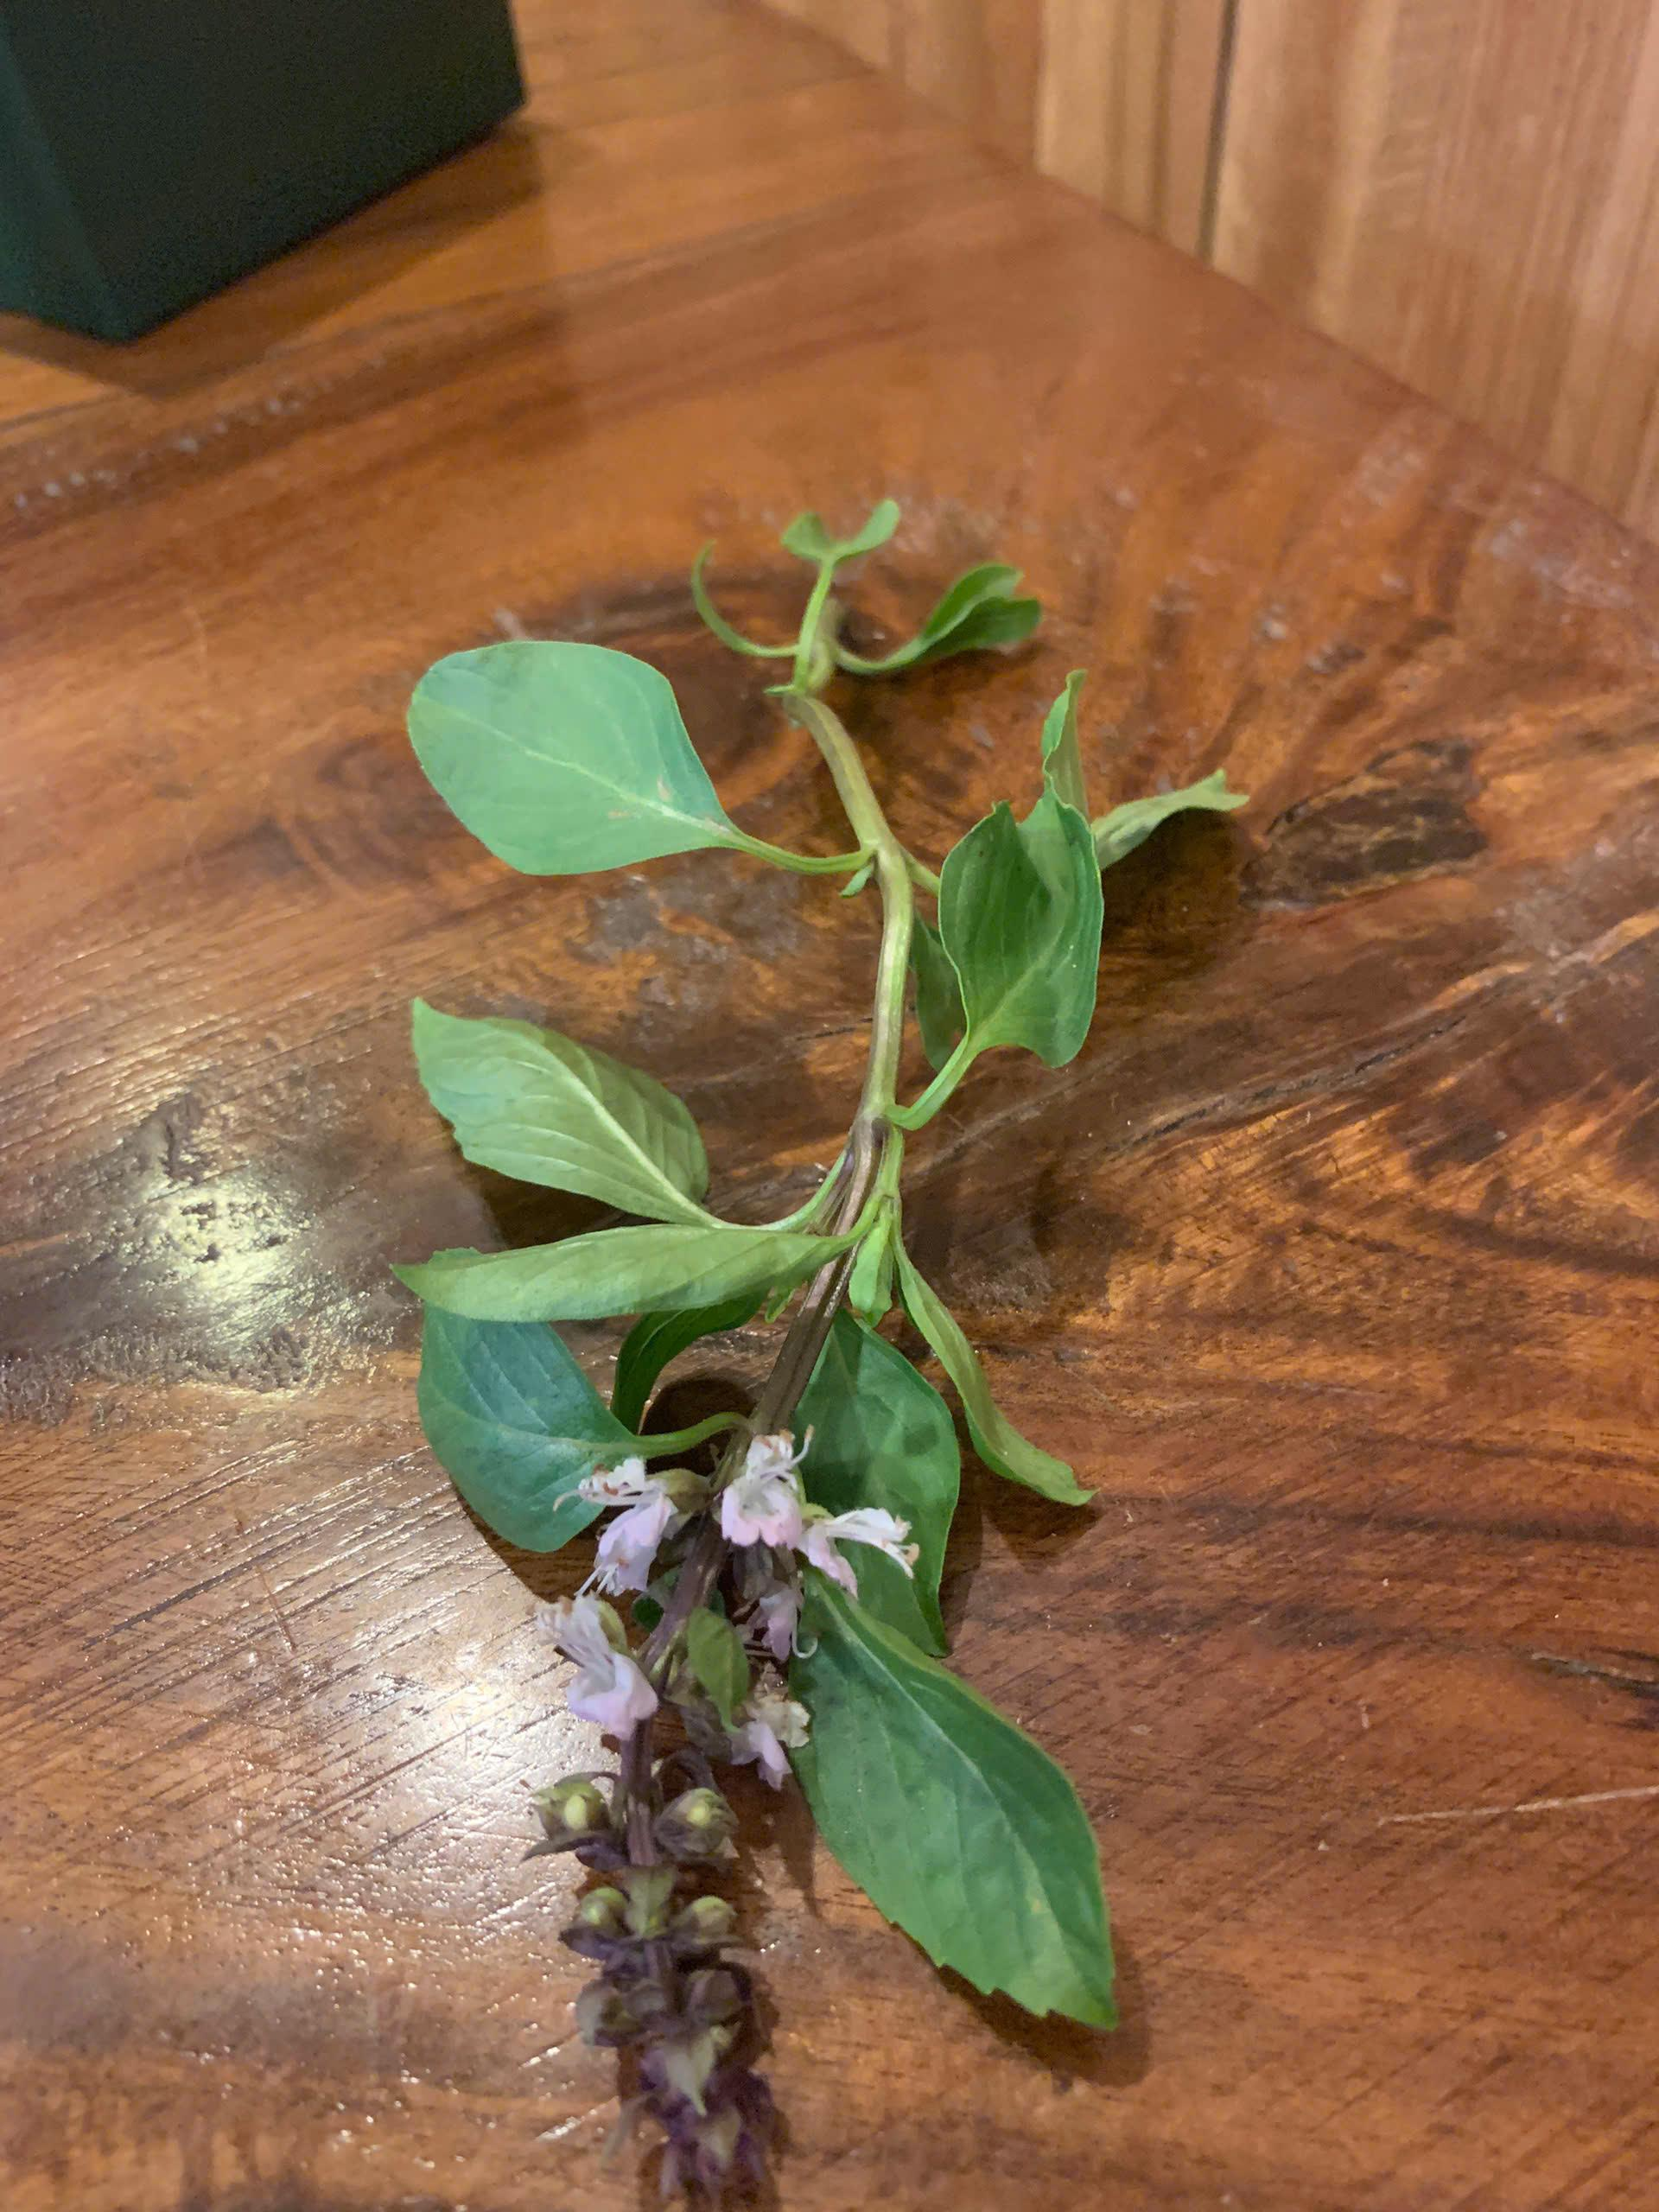Huu co: (415, 528, 1185, 2047)
